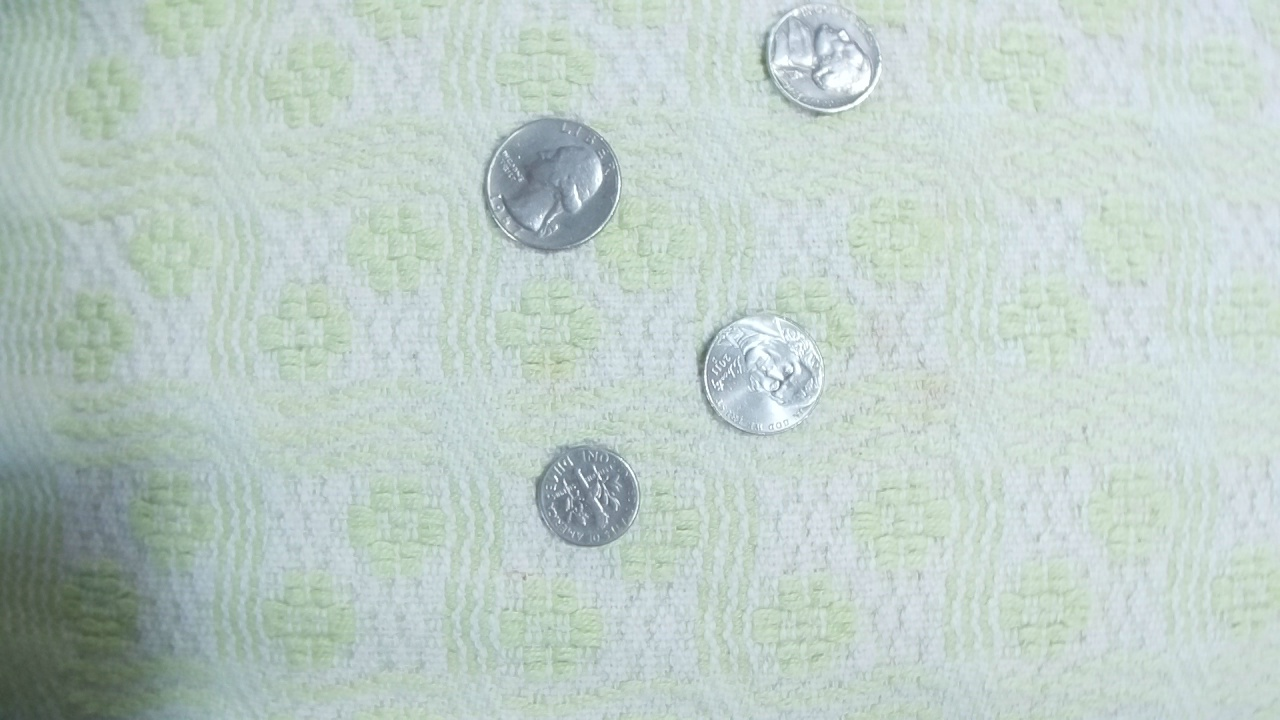dime: (532, 442, 640, 552)
nickel: (694, 305, 828, 441), (758, 1, 890, 121)
quarter: (481, 115, 623, 251)
